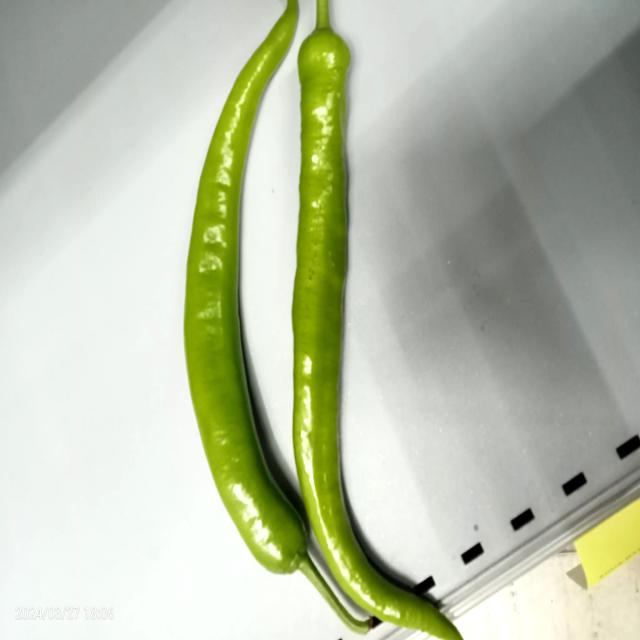green pepper: (178, 0, 461, 640)
